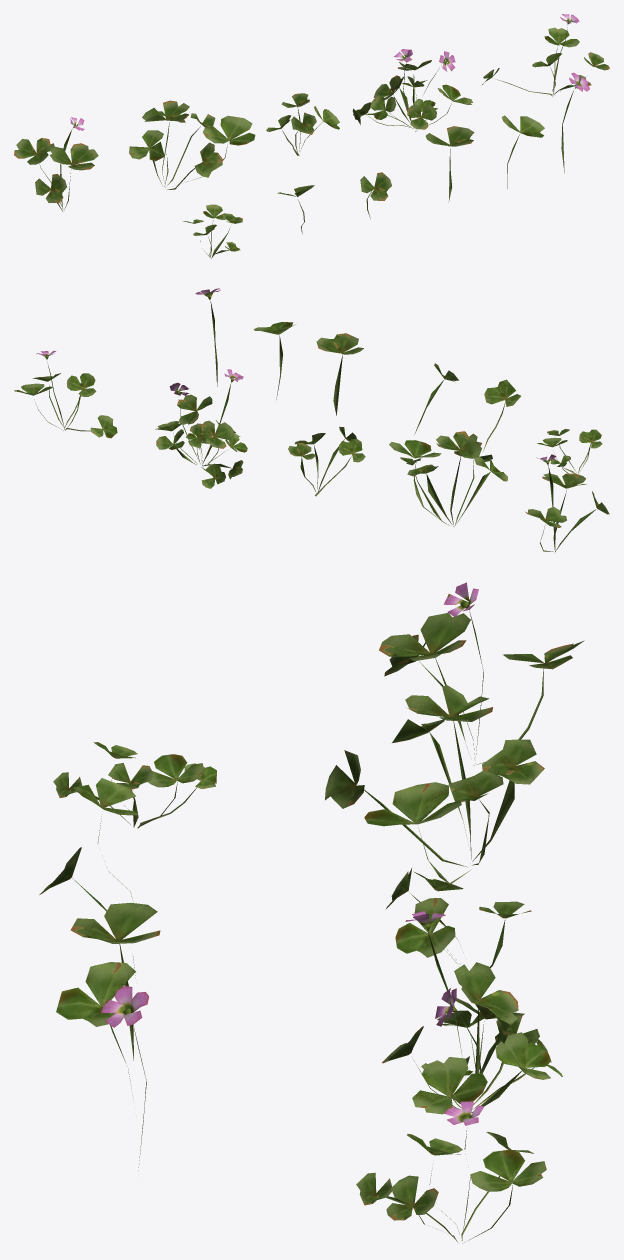
File: shrub_sorrel_01-low.glb
3 views of the same model, one above another, from view 1: azimuth 30°, elevation 25°; view 2: azimuth 150°, elevation 25°; view 3: azimuth 270°, elevation 25° (orthographic). The views are drawn at different scales.
Visible parts, largest first — view 1: shrub_sorrel_01_b, shrub_sorrel_01_d, shrub_sorrel_01_a, shrub_sorrel_01_e, shrub_sorrel_01_c, shrub_sorrel_01_f, shrub_sorrel_01_i, shrub_sorrel_01_h, shrub_sorrel_01_j, shrub_sorrel_01_k; view 2: shrub_sorrel_01_d, shrub_sorrel_01_b, shrub_sorrel_01_e, shrub_sorrel_01_a, shrub_sorrel_01_c, shrub_sorrel_01_i, shrub_sorrel_01_f, shrub_sorrel_01_g, shrub_sorrel_01_j; view 3: shrub_sorrel_01_b, shrub_sorrel_01_d, shrub_sorrel_01_e, shrub_sorrel_01_a, shrub_sorrel_01_f, shrub_sorrel_01_c, shrub_sorrel_01_j, shrub_sorrel_01_i, shrub_sorrel_01_k, shrub_sorrel_01_g.
Boxes of the visible parts, left/top/right/bottom form: shrub_sorrel_01_b: left=129, top=100, right=255, bottom=189; shrub_sorrel_01_d: left=352, top=49, right=472, bottom=131; shrub_sorrel_01_a: left=14, top=117, right=98, bottom=211; shrub_sorrel_01_e: left=482, top=14, right=609, bottom=96; shrub_sorrel_01_c: left=266, top=93, right=339, bottom=155; shrub_sorrel_01_f: left=183, top=204, right=242, bottom=258; shrub_sorrel_01_i: left=425, top=126, right=474, bottom=202; shrub_sorrel_01_h: left=360, top=172, right=391, bottom=219; shrub_sorrel_01_j: left=501, top=115, right=544, bottom=188; shrub_sorrel_01_k: left=561, top=72, right=589, bottom=173; shrub_sorrel_01_d: left=155, top=369, right=247, bottom=488; shrub_sorrel_01_b: left=389, top=431, right=507, bottom=526; shrub_sorrel_01_e: left=14, top=350, right=117, bottom=438; shrub_sorrel_01_a: left=525, top=454, right=609, bottom=552; shrub_sorrel_01_c: left=288, top=426, right=365, bottom=496; shrub_sorrel_01_i: left=316, top=333, right=363, bottom=415; shrub_sorrel_01_f: left=537, top=429, right=602, bottom=473; shrub_sorrel_01_g: left=483, top=379, right=520, bottom=451; shrub_sorrel_01_j: left=253, top=322, right=295, bottom=399; shrub_sorrel_01_b: left=325, top=685, right=544, bottom=883; shrub_sorrel_01_d: left=382, top=911, right=562, bottom=1114; shrub_sorrel_01_e: left=356, top=1101, right=546, bottom=1243; shrub_sorrel_01_a: left=379, top=582, right=584, bottom=765; shrub_sorrel_01_f: left=53, top=742, right=216, bottom=828; shrub_sorrel_01_c: left=386, top=867, right=531, bottom=967; shrub_sorrel_01_j: left=56, top=962, right=135, bottom=1101; shrub_sorrel_01_i: left=70, top=903, right=160, bottom=1060; shrub_sorrel_01_k: left=101, top=985, right=148, bottom=1170; shrub_sorrel_01_g: left=74, top=778, right=137, bottom=898.
Bounding box in the file's own units: 0.352 × 0.058 × 0.1464.
Materials: 1 (1 with a texture image).
